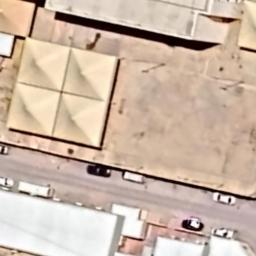sedan: (179, 216, 204, 234), (208, 192, 240, 206), (86, 162, 110, 179), (210, 227, 236, 241)
truck: (15, 179, 57, 201)
van: (120, 170, 148, 187)
